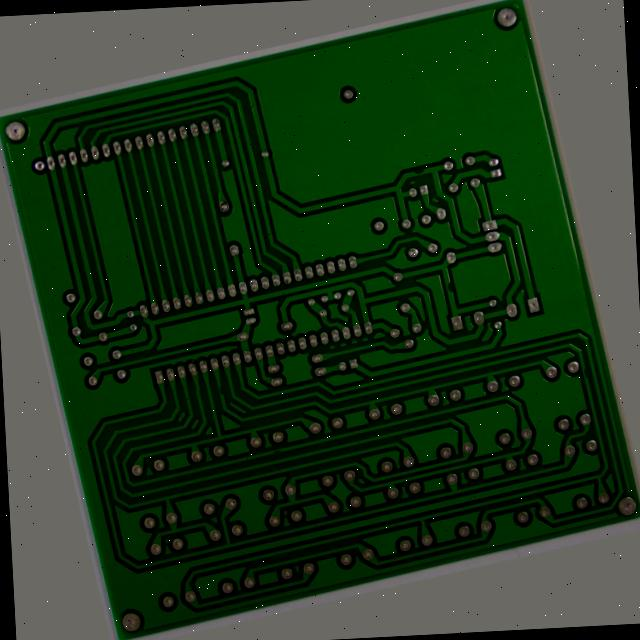mouse_bite: (234, 454, 257, 470), (605, 424, 620, 447), (467, 299, 482, 320), (453, 163, 475, 177), (187, 371, 200, 391)
